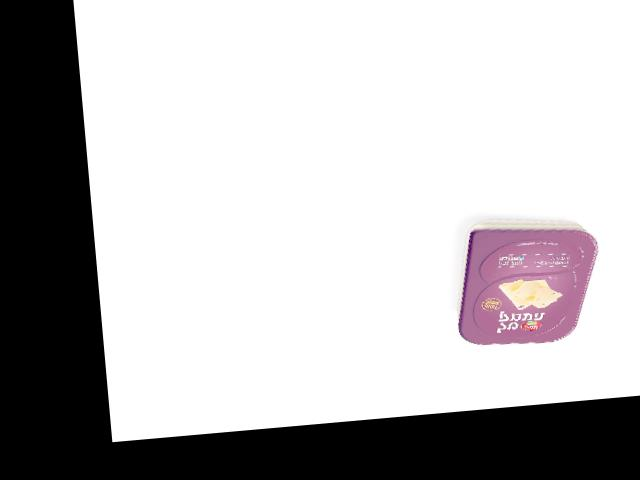cheese: (448, 210, 606, 351)
